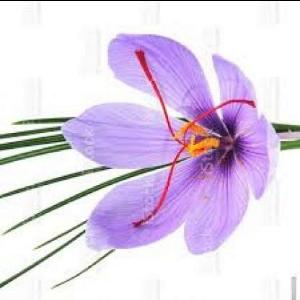Saffron: (63, 31, 278, 256)
